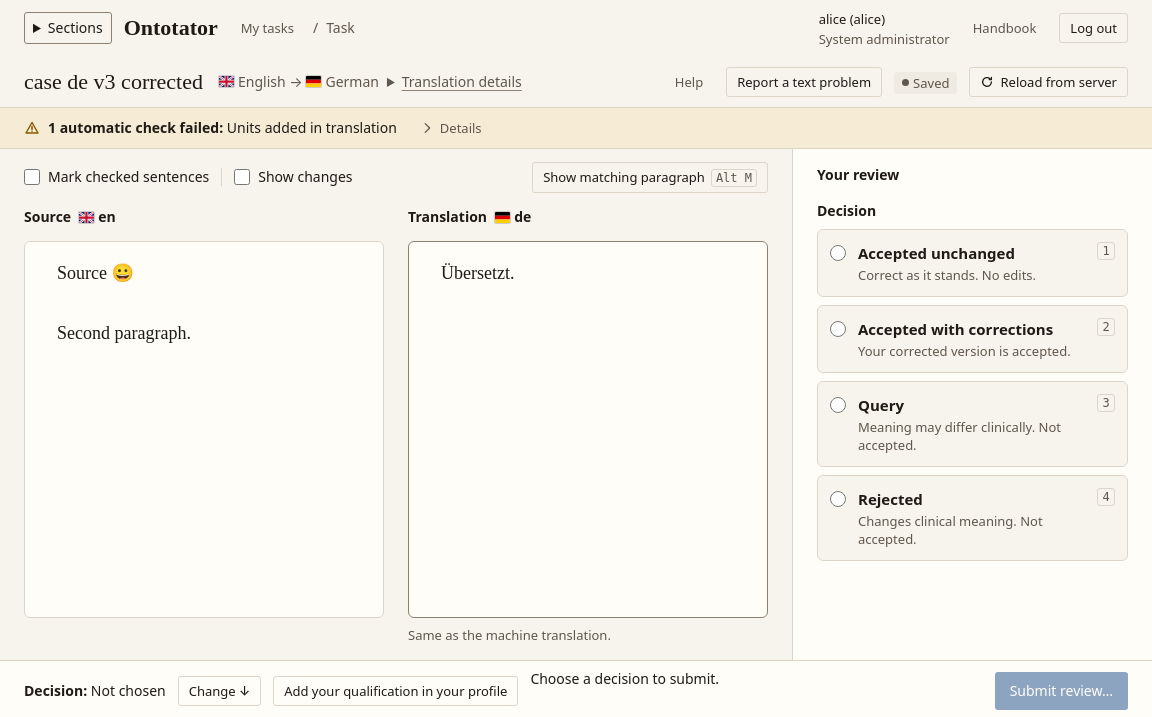
Test: keeps the mounted review and history on cancelled raw-hash leave, then explicitly discards
The width and height of the screenshot is (1152, 717).
Replace the text in the text box named "Translation (de)" with "Keep raw text": x=588, y=430 top-left (409, 242), bottom-right (767, 617)
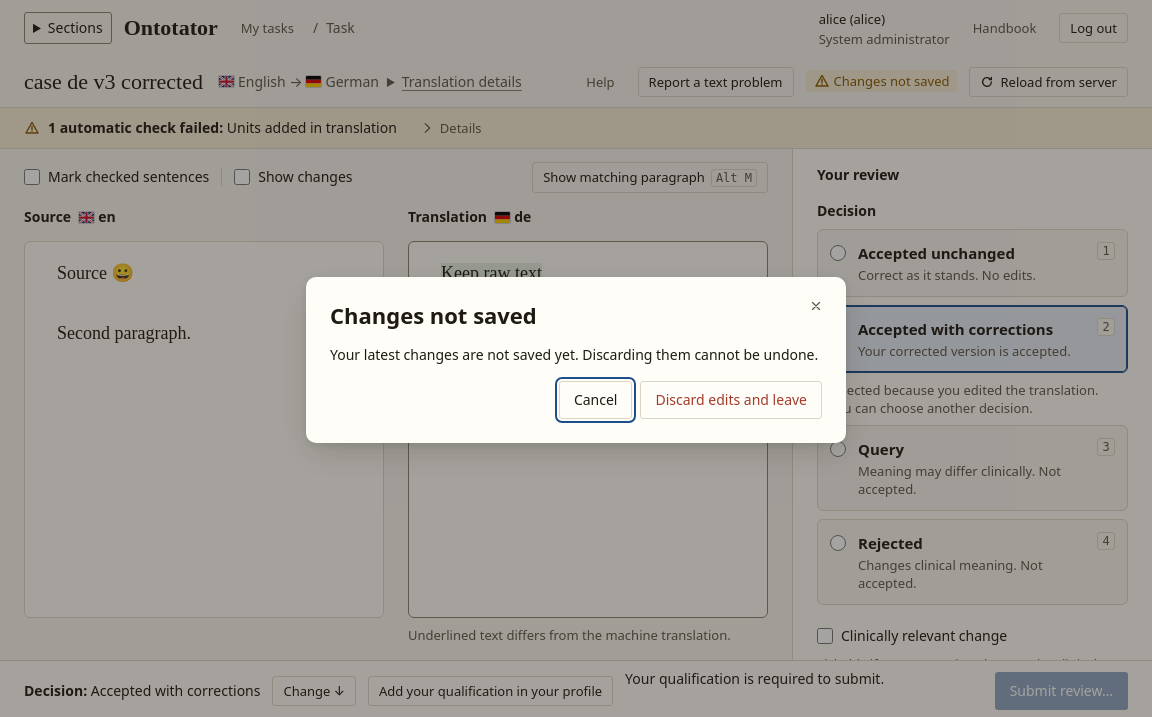
Click the button "Cancel": x=596, y=400 top-left (559, 381), bottom-right (632, 419)
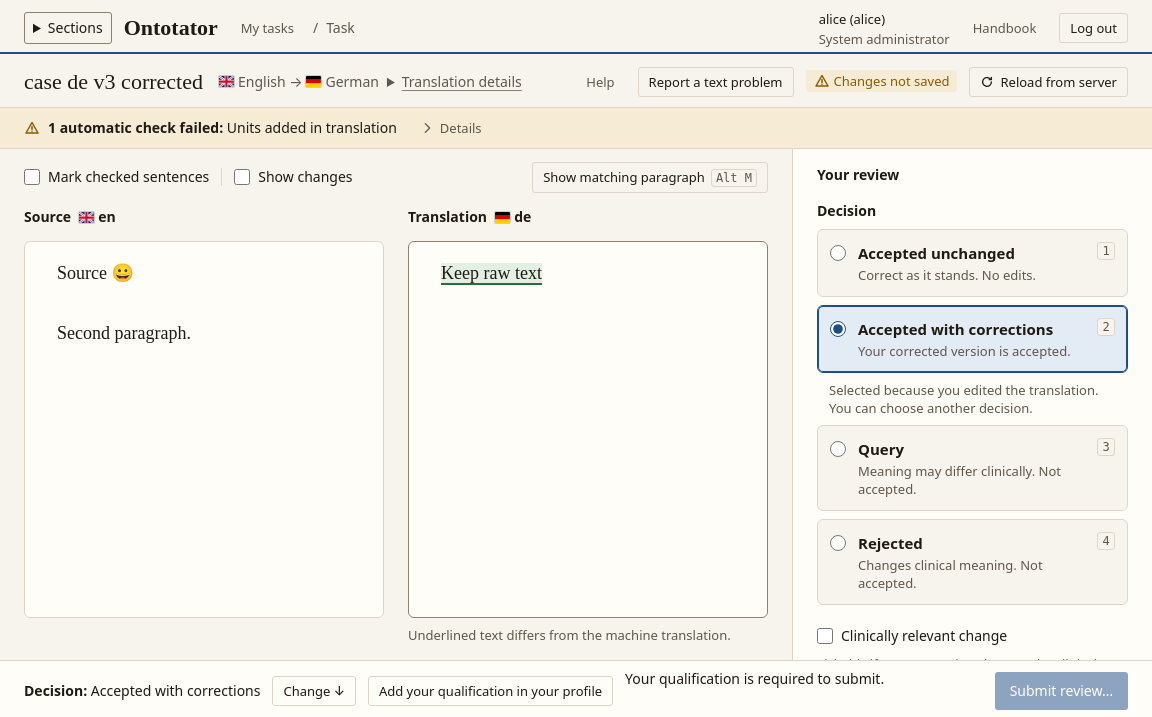
Click the heading "Sections": x=68, y=28 top-left (24, 12), bottom-right (112, 44)
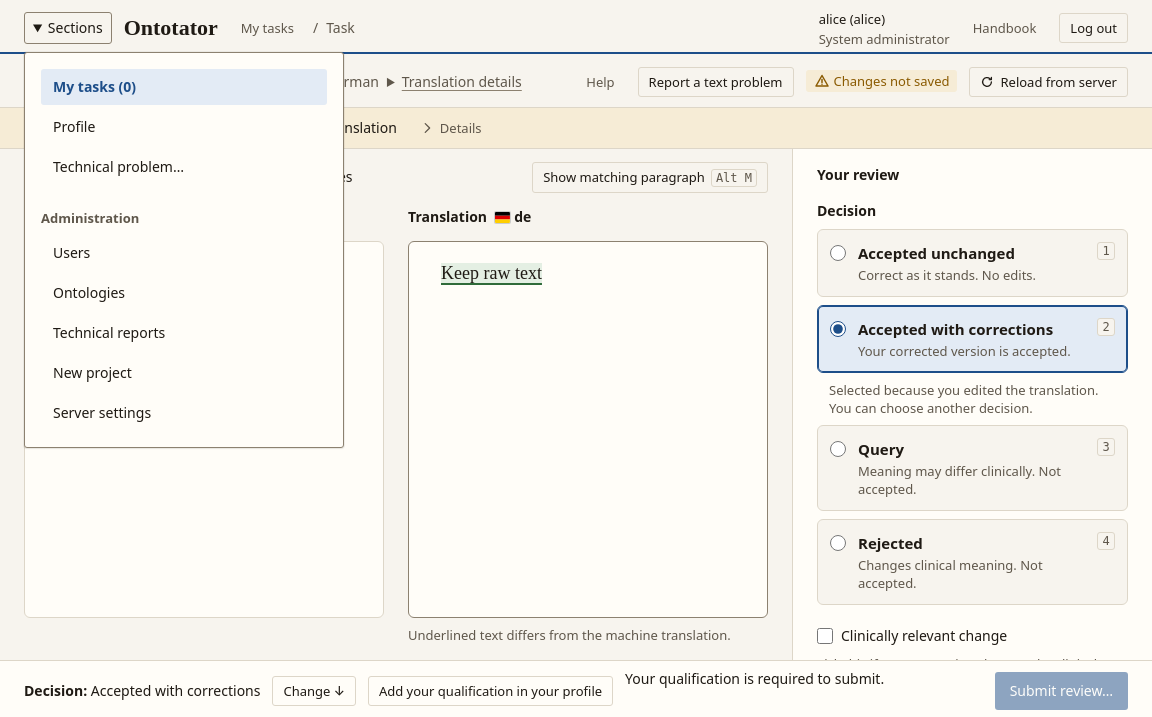
Click the link "Profile": x=74, y=126 top-left (53, 117), bottom-right (95, 136)
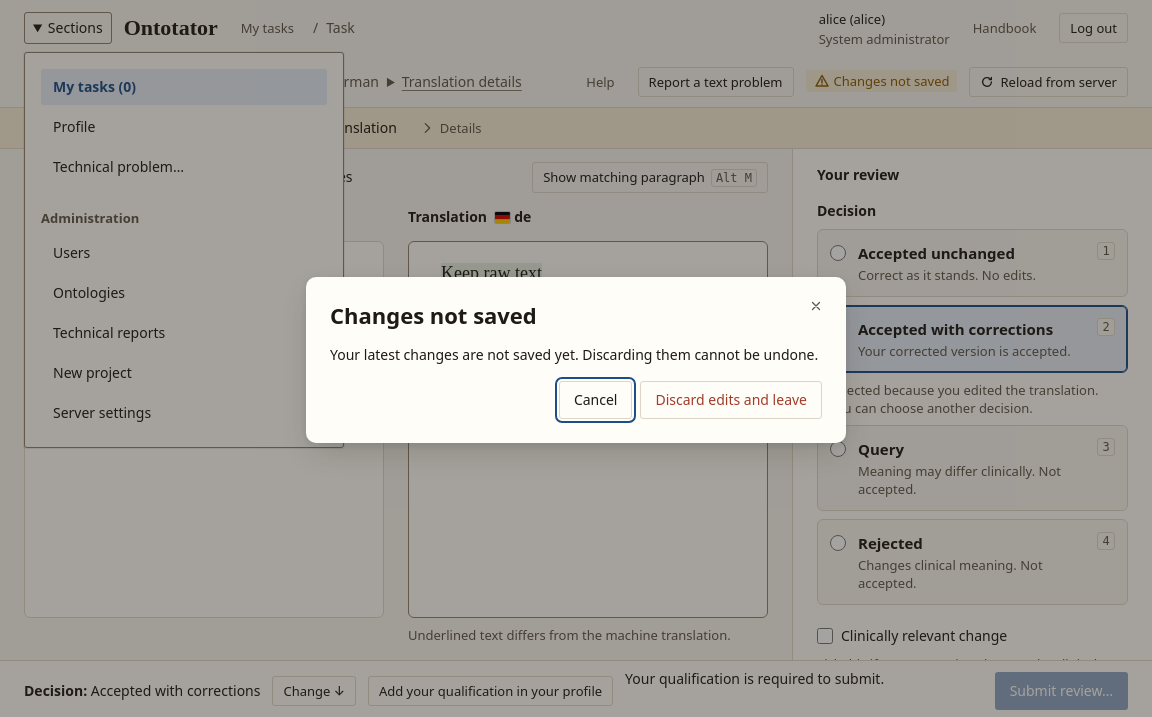
Click the button "Discard edits and leave": x=731, y=400 top-left (640, 381), bottom-right (822, 419)
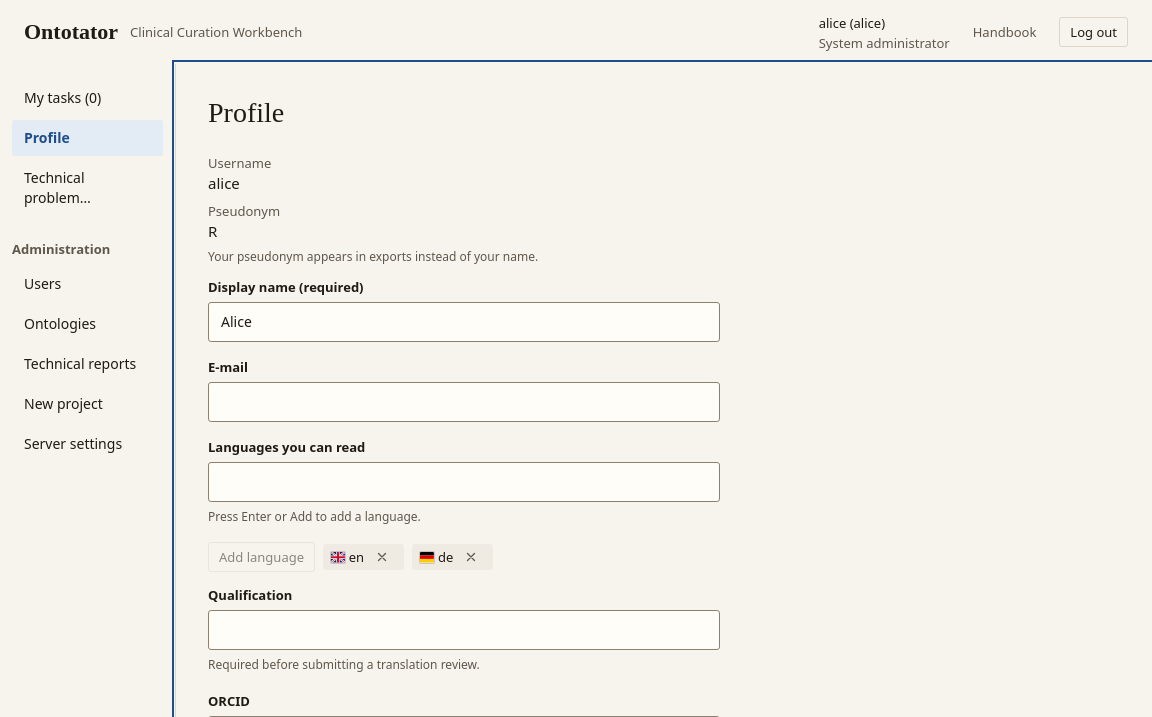
Expected: the heading "Profile" is shown, top-left (208, 97), bottom-right (284, 128)
